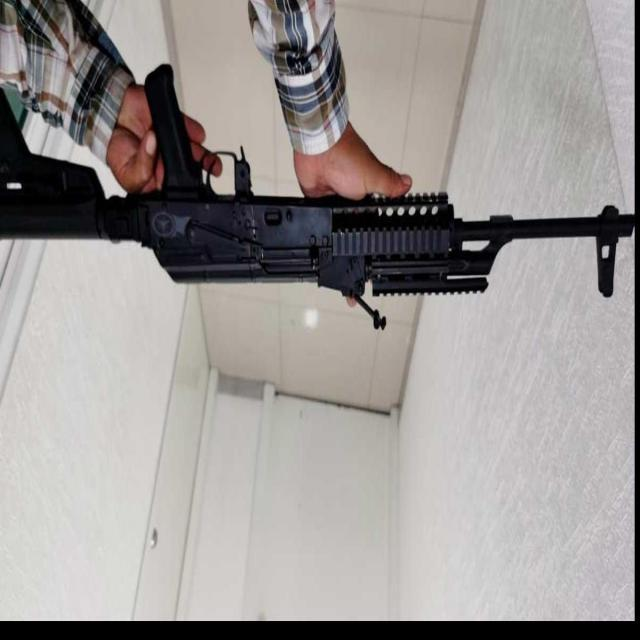weapon: (0, 62, 636, 334)
